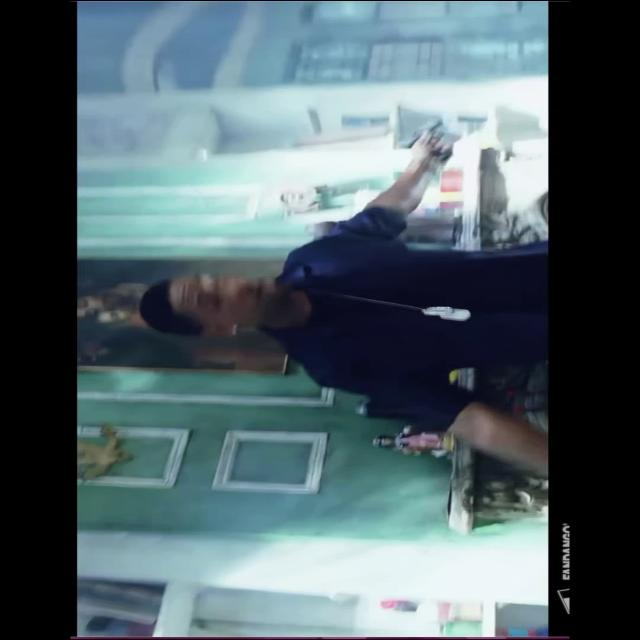weapons: (386, 110, 470, 184)
